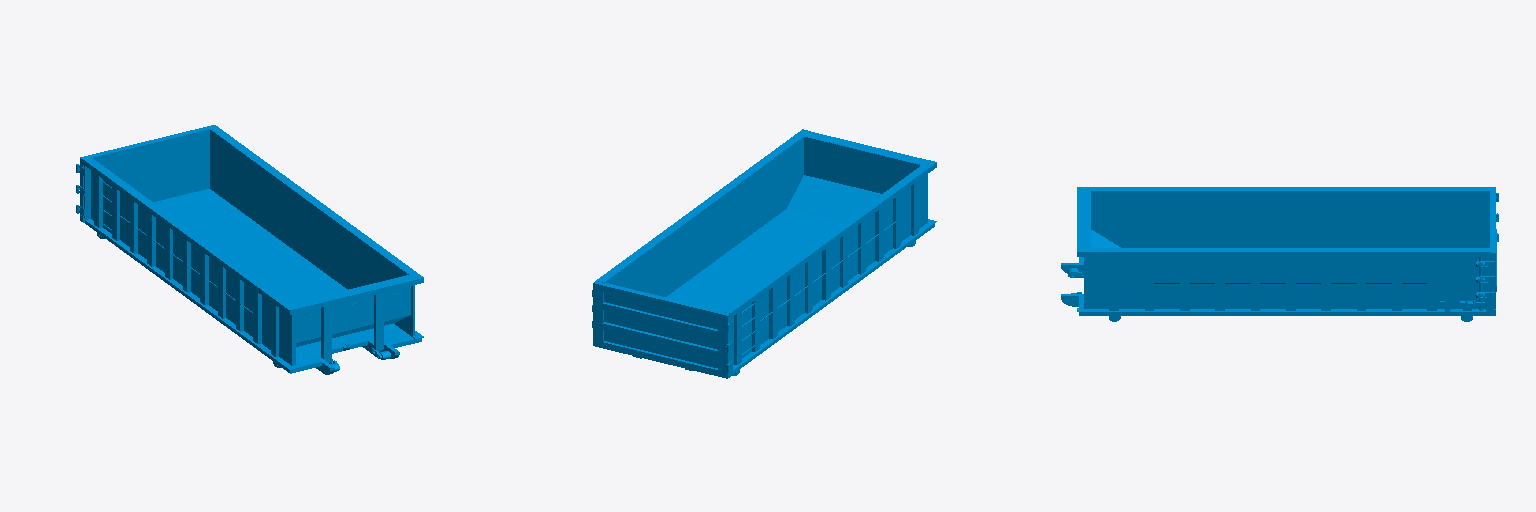
File: 20YardRecDumpsterSafetyBlue.obj
The picture shows the model from 3 angles: view 1: azimuth 30°, elevation 25°; view 2: azimuth 150°, elevation 25°; view 3: azimuth 270°, elevation 25°; orthographic projection.
Visible parts, largest first — view 1: Object.2; view 2: Object.2; view 3: Object.2.
Boxes of the visible parts, box(x1,y1,x2,y2) form: Object.2: box(76, 125, 423, 374); Object.2: box(592, 129, 936, 378); Object.2: box(1061, 187, 1498, 321).
Size of the model in its own units: 93 by 45.32 by 249.